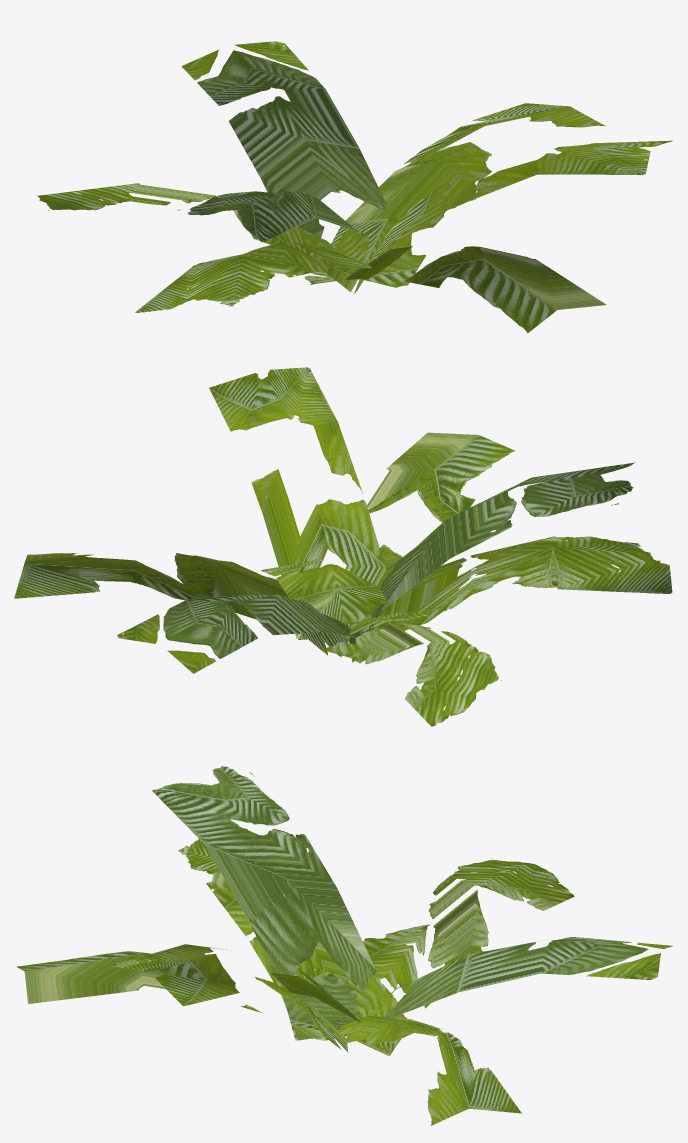
The model's file is banana.glb.
The picture shows the model from 3 angles, top to bottom: view 1: azimuth 30°, elevation 25°; view 2: azimuth 150°, elevation 25°; view 3: azimuth 270°, elevation 25°; orthographic projection. The views are drawn at different scales.
Visible parts, largest first — view 1: BananaBush; view 2: BananaBush; view 3: BananaBush.
Boxes of the visible parts, <box> form: BananaBush: <box>37,41,673,333</box>; BananaBush: <box>14,367,672,726</box>; BananaBush: <box>16,766,672,1125</box>.
Size of the model in its own units: 9.91 by 3 by 10.21.
1 material, 1 textured.
